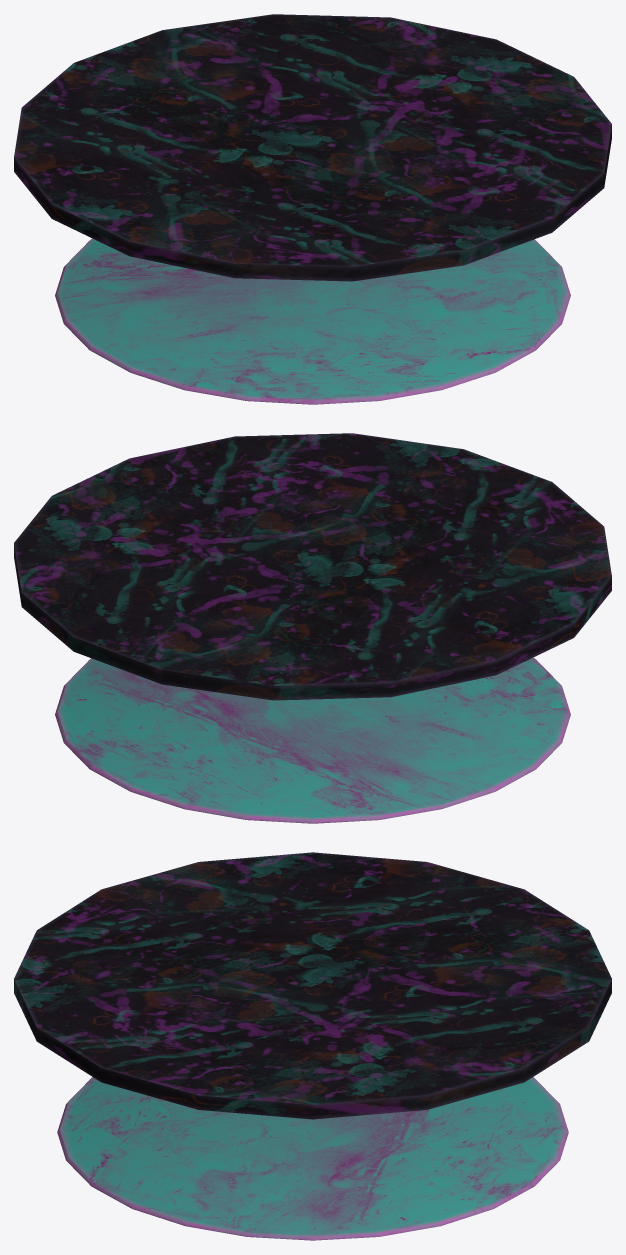
File: car roof and floor.fbx
The picture shows the model from 3 angles, top to bottom: view 1: azimuth 30°, elevation 25°; view 2: azimuth 150°, elevation 25°; view 3: azimuth 270°, elevation 25°; orthographic projection.
Parts seen in each view (by area): view 1: Cylinder, Cylinder_7; view 2: Cylinder, Cylinder_7; view 3: Cylinder, Cylinder_7.
Part boxes in pixels (<box>): Cylinder: <box>14,14,611,281</box>; Cylinder_7: <box>55,238,570,404</box>; Cylinder: <box>14,433,611,700</box>; Cylinder_7: <box>55,657,570,823</box>; Cylinder: <box>14,852,611,1119</box>; Cylinder_7: <box>57,1077,568,1240</box>.
Size of the model in its own units: 575 by 163 by 575.
